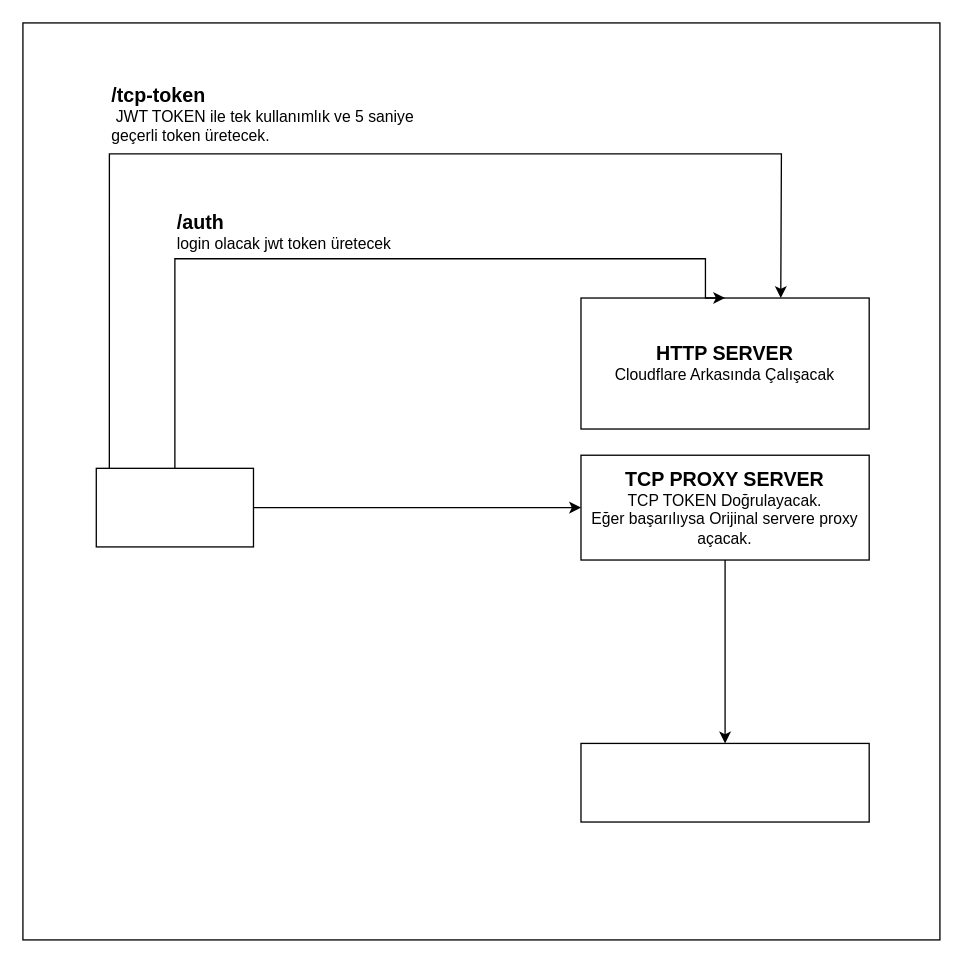
The diagram is 963 pixels wide and 963 high, and some of its shapes have lost their labels. The shapes that lost their labels are listed below. From the top down, each one's box as (x1, y1, x2, y2) in pixels, then its label:
(95, 467, 253, 547): CLIENT
(580, 742, 869, 822): TCP SERVER
